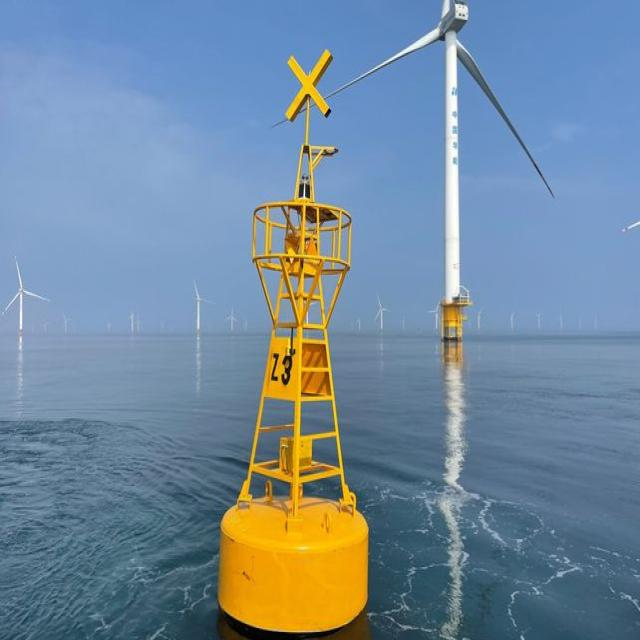buoy: (210, 45, 374, 640)
